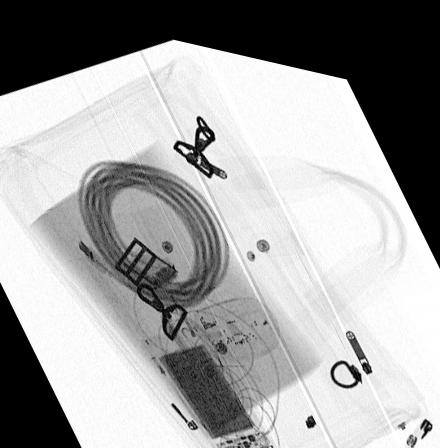Powerbank: (142, 315, 279, 448)
